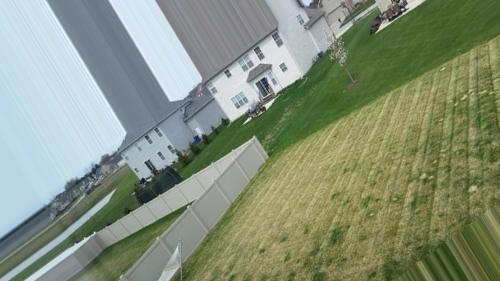patch: (279, 152, 325, 207), (357, 118, 415, 154), (337, 168, 388, 192)
